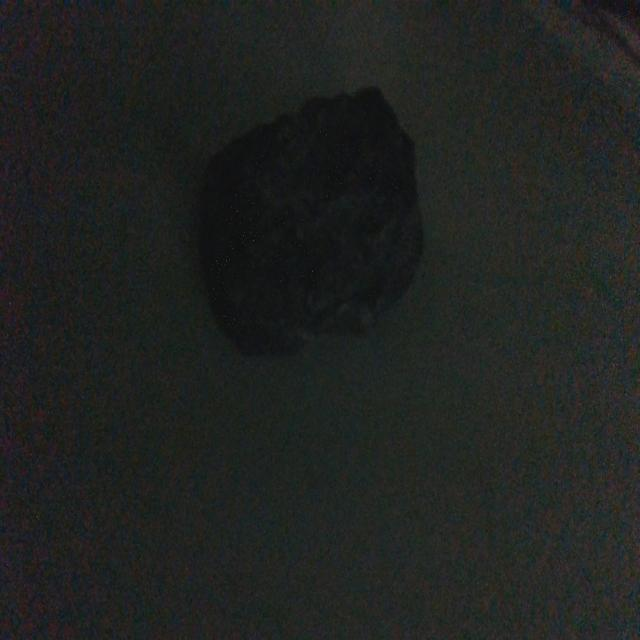stone: (200, 82, 424, 362)
